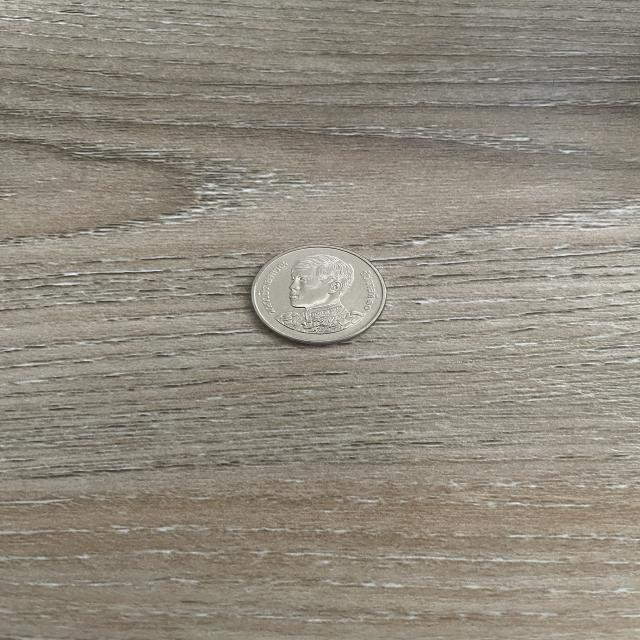1 Bath: (243, 238, 398, 349)
